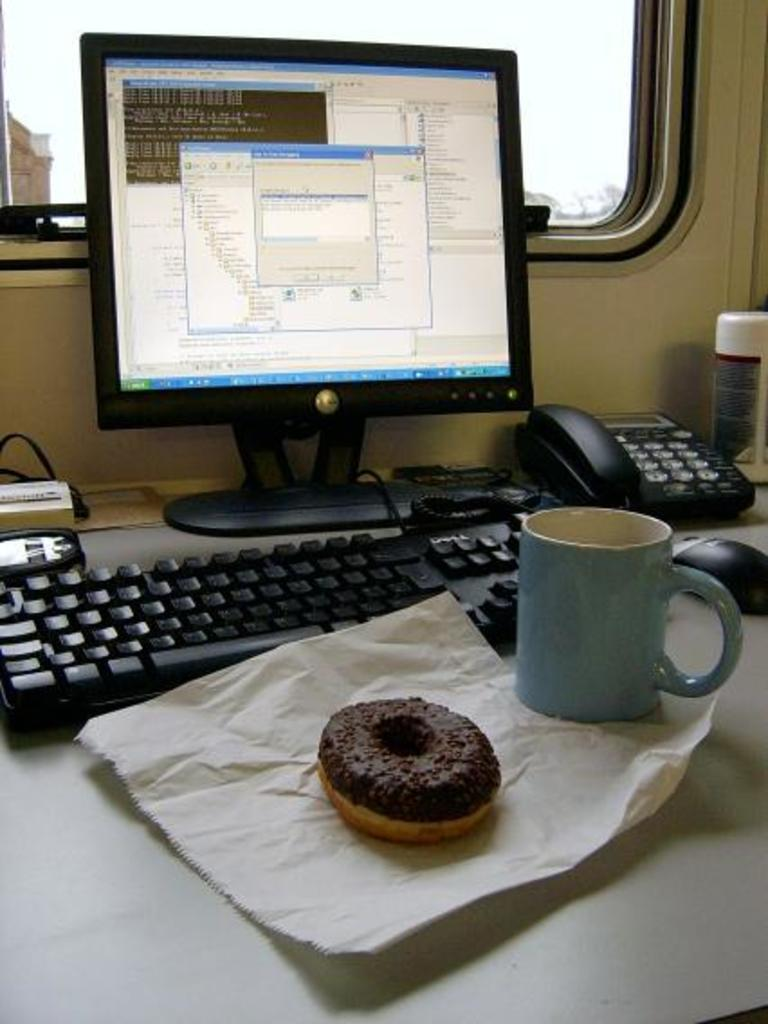Computer-keyboard: (0, 517, 516, 741)
